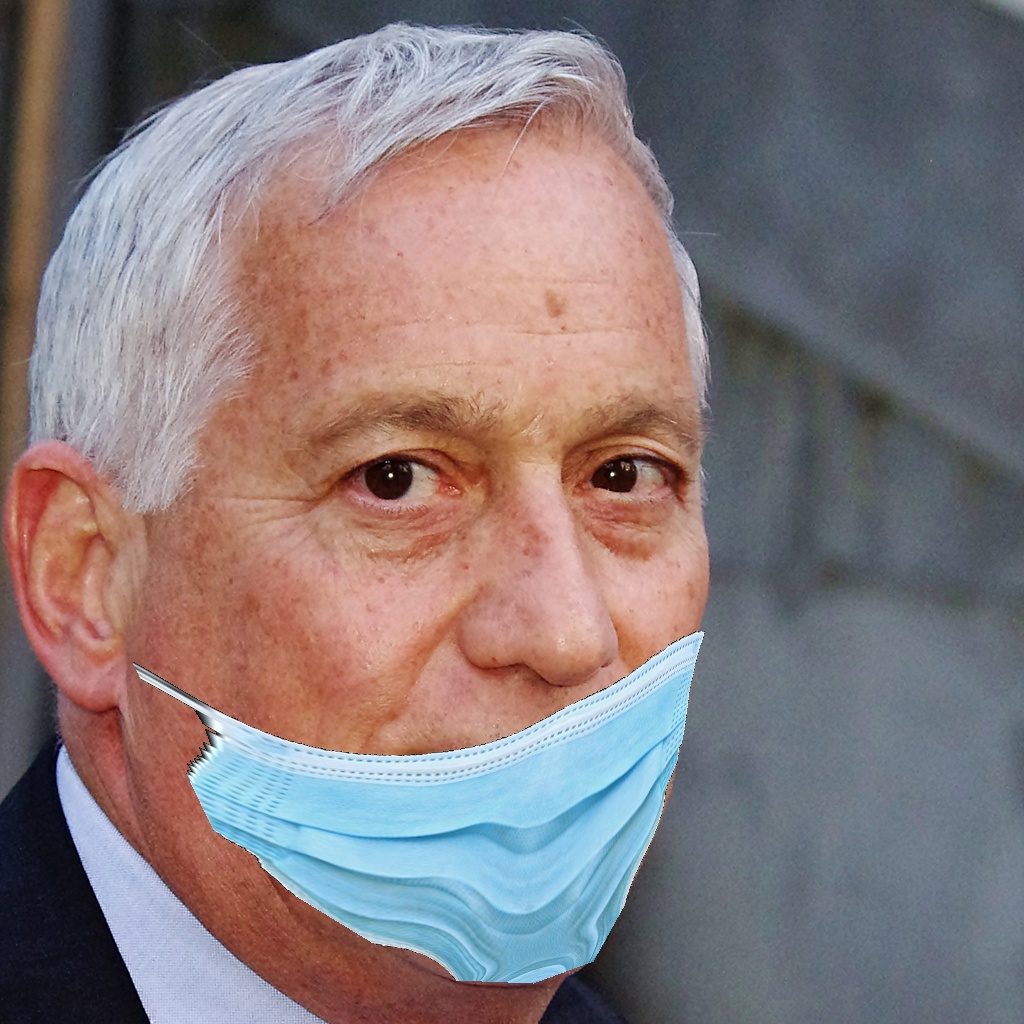mascarilla_mal_puesta: (167, 325, 722, 963)
